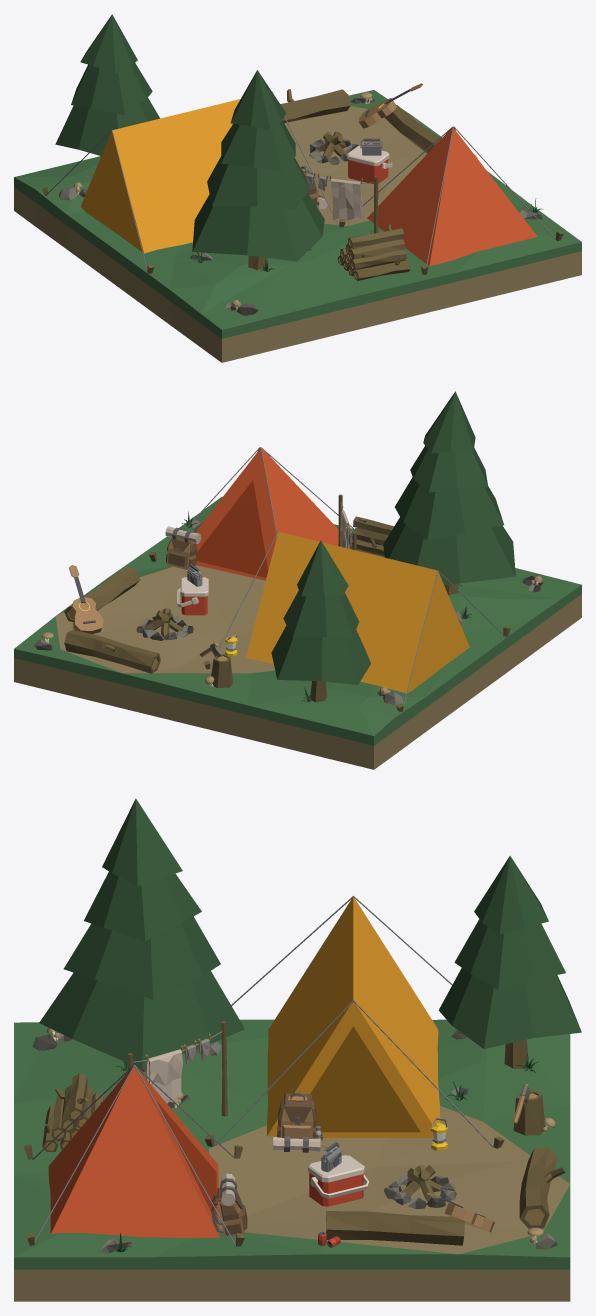
File: Camping2.fbx
The picture shows the model from 3 angles, top to bottom: view 1: azimuth 30°, elevation 25°; view 2: azimuth 150°, elevation 25°; view 3: azimuth 270°, elevation 25°; orthographic projection. The views are drawn at different scales.
Visible parts, largest first — view 1: Plane002, Cylinder015, Cylinder001, Pyramid008, Cylinder017, Cylinder069, Cylinder009, roca03, Box024, Ropa03, Cylinder016, Cylinder045 (+1 smaller); view 2: Plane002, Cylinder001, Cylinder015, Pyramid008, Cylinder017, Cylinder009, roca03, Box023, Cylinder016, Cylinder069, Cylinder045, Box024 (+2 smaller); view 3: Plane002, Cylinder001, Cylinder015, Pyramid008, Cylinder017, Cylinder016, roca03, Cylinder069, Box022, Cylinder009, Box024, Box023 (+4 smaller).
Boxes of the visible parts, bbox=[...] form: Plane002: bbox=[14, 90, 581, 362]; Cylinder015: bbox=[192, 70, 324, 270]; Cylinder001: bbox=[80, 99, 240, 253]; Pyramid008: bbox=[367, 127, 537, 266]; Cylinder017: bbox=[55, 14, 160, 157]; Cylinder069: bbox=[338, 224, 410, 280]; Cylinder009: bbox=[280, 89, 350, 122]; roca03: bbox=[59, 96, 542, 315]; Box024: bbox=[347, 146, 392, 184]; Ropa03: bbox=[330, 178, 362, 220]; Cylinder016: bbox=[385, 105, 440, 153]; Cylinder045: bbox=[359, 83, 422, 128]; Plane002: bbox=[14, 496, 581, 769]; Cylinder001: bbox=[246, 532, 469, 693]; Cylinder015: bbox=[383, 391, 515, 595]; Pyramid008: bbox=[195, 447, 338, 580]; Cylinder017: bbox=[271, 540, 370, 702]; Cylinder009: bbox=[64, 629, 160, 673]; roca03: bbox=[34, 519, 543, 704]; Box023: bbox=[165, 526, 201, 569]; Cylinder016: bbox=[64, 566, 140, 621]; Cylinder069: bbox=[349, 516, 393, 557]; Cylinder045: bbox=[69, 565, 103, 633]; Box024: bbox=[177, 577, 208, 615]; Plane002: bbox=[14, 1019, 570, 1301]; Cylinder001: bbox=[266, 896, 440, 1137]; Cylinder015: bbox=[39, 798, 244, 1071]; Pyramid008: bbox=[48, 1067, 219, 1238]; Cylinder017: bbox=[438, 855, 581, 1068]; Cylinder016: bbox=[326, 1211, 464, 1245]; roca03: bbox=[32, 1030, 557, 1253]; Cylinder069: bbox=[42, 1073, 103, 1151]; Box022: bbox=[273, 1092, 322, 1152]; Cylinder009: bbox=[519, 1147, 565, 1228]; Box024: bbox=[308, 1155, 368, 1206]; Box023: bbox=[211, 1173, 247, 1236].
Bounding box in the file's own units: 142 × 90.5 × 145.
Materials: 21 (20 with a texture image).
